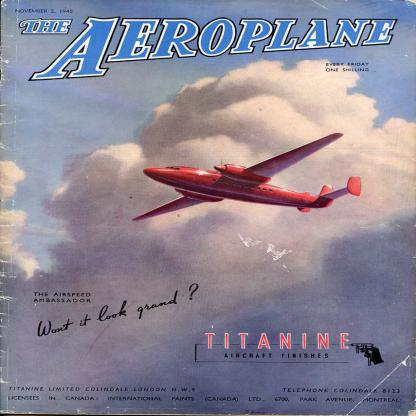CIV_Plane: (126, 131, 362, 224)
